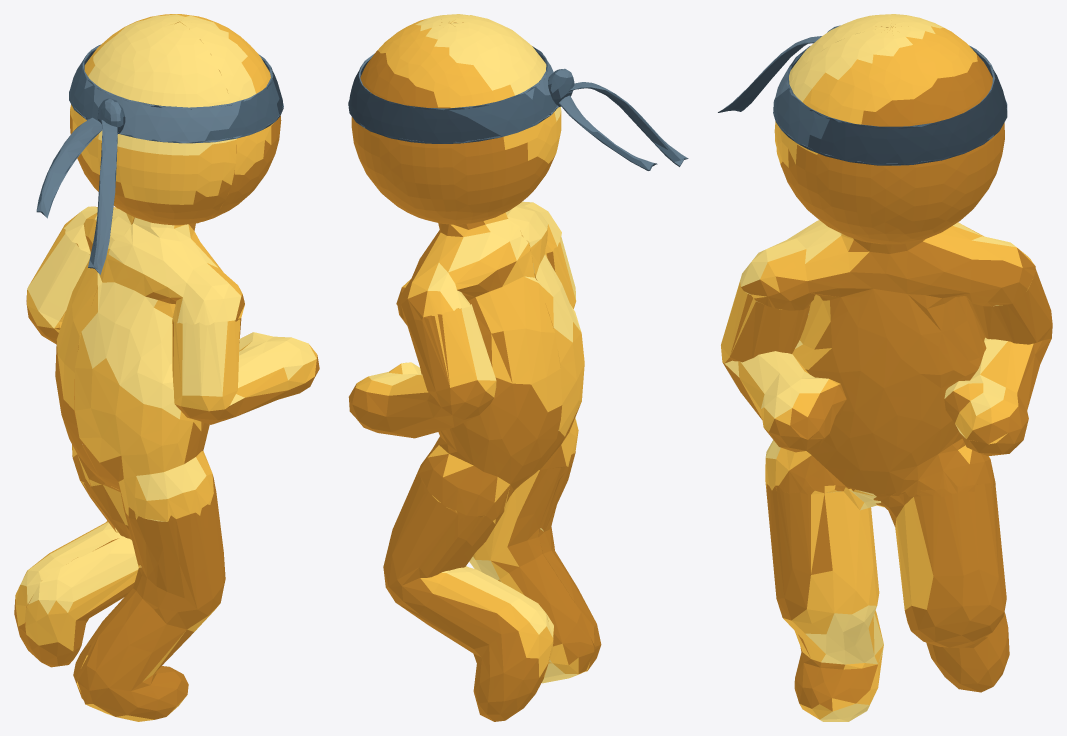
Rendered from Ninja_Jog0_R.gltf.
3 renders of one model, left to right at view 1: azimuth 30°, elevation 25°; view 2: azimuth 150°, elevation 25°; view 3: azimuth 270°, elevation 25°, orthographic. The views are drawn at different scales.
Parts seen in each view (by area): view 1: Ninja_Jog0_R_baked; view 2: Ninja_Jog0_R_baked; view 3: Ninja_Jog0_R_baked.
Boxes of the visible parts, x1,y1,x2,y2 form: Ninja_Jog0_R_baked: [14, 14, 319, 721]; Ninja_Jog0_R_baked: [348, 14, 688, 721]; Ninja_Jog0_R_baked: [718, 14, 1052, 721].
Size of the model in its own units: 0.4199 by 1 by 0.4207.
